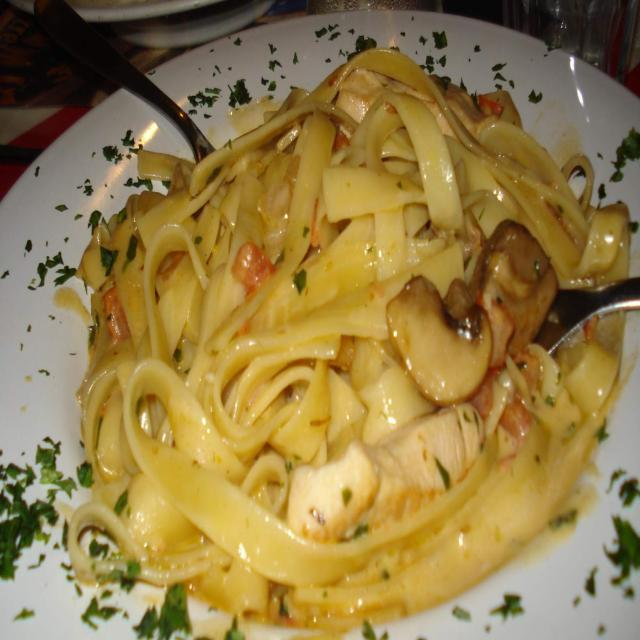pasta: (39, 18, 626, 613)
